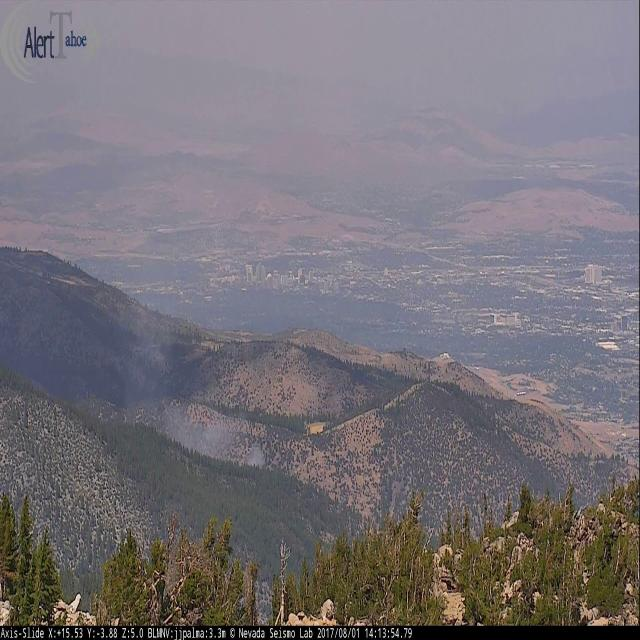smoke: (123, 295, 265, 473)
